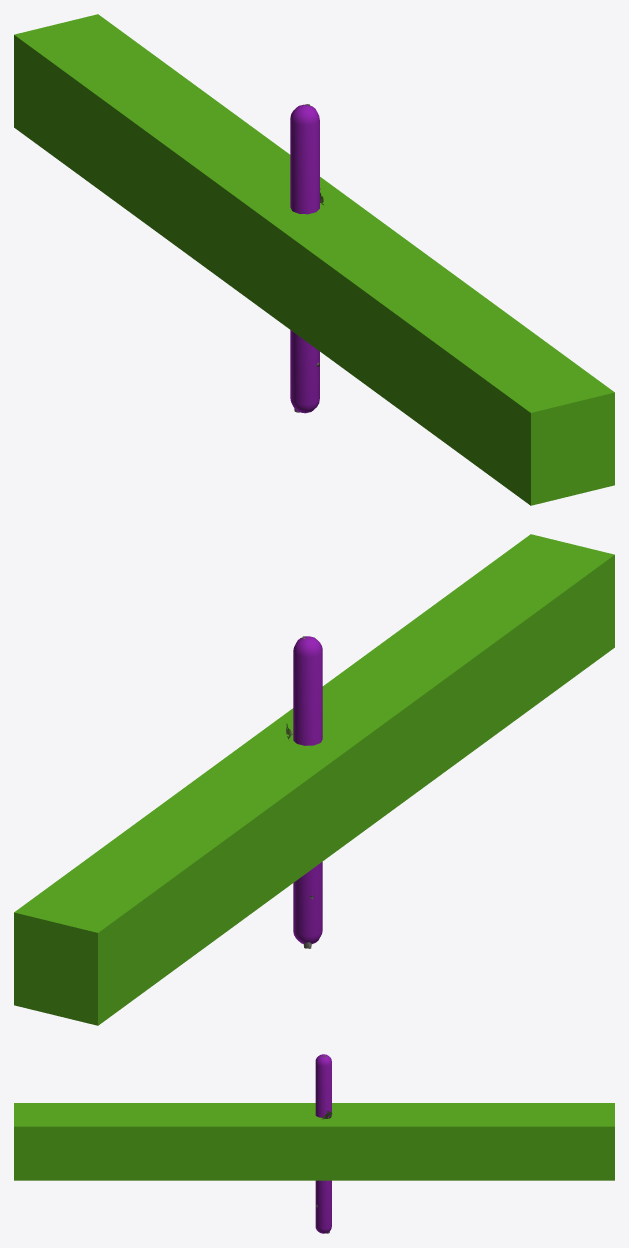
File: logpilestake_unbroken.DAE
3 views of the same model, one above another, from view 1: azimuth 30°, elevation 25°; view 2: azimuth 150°, elevation 25°; view 3: azimuth 270°, elevation 25° (orthographic). The views are drawn at different scales.
Visible parts, largest first — view 1: bounds, colcapsule-2; view 2: bounds, colcapsule-2; view 3: bounds, colcapsule-2.
Part boxes in pixels (box(x1,y1,x2,y2)): bounds: box(14, 14, 614, 505); colcapsule-2: box(290, 104, 319, 413); bounds: box(14, 534, 614, 1025); colcapsule-2: box(293, 636, 322, 943); bounds: box(14, 1103, 614, 1180); colcapsule-2: box(315, 1054, 331, 1233).
Size of the model in its own units: 1.06 by 11.3 by 3.71.
